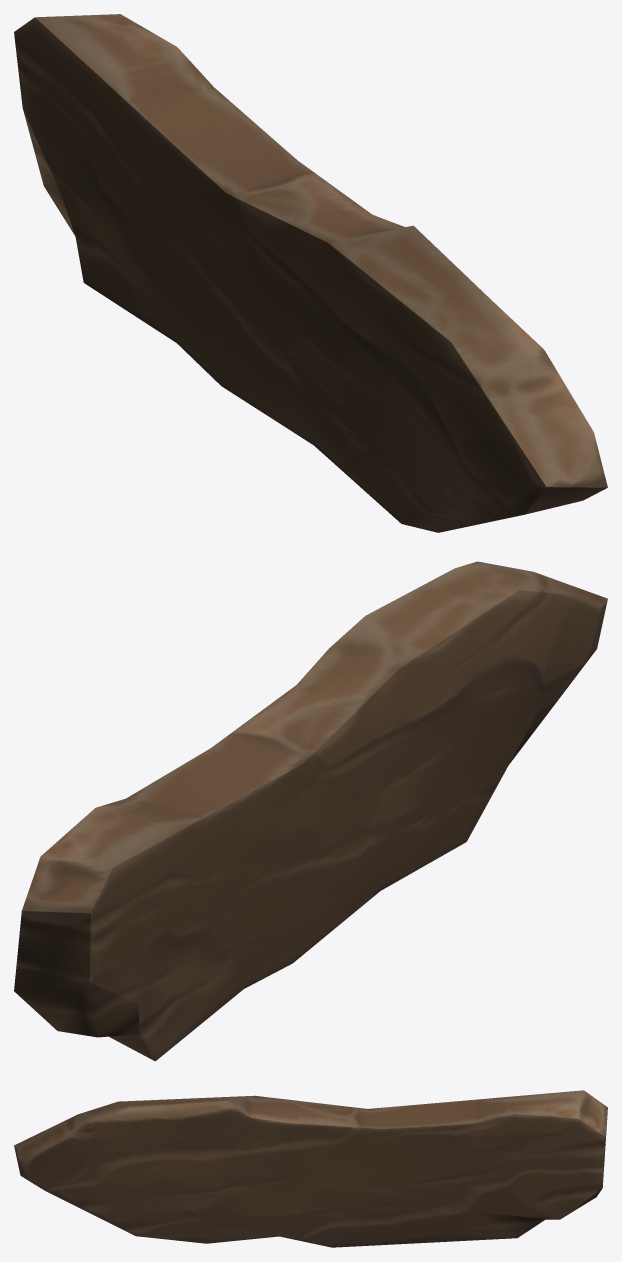
Rendered from SM_FW01_Roadsign_02.fbx.
3 views of the same model, one above another, from view 1: azimuth 30°, elevation 25°; view 2: azimuth 150°, elevation 25°; view 3: azimuth 270°, elevation 25° (orthographic). The views are drawn at different scales.
Parts seen in each view (by area): view 1: SM_FW01_Roadsign_02_LOD0; view 2: SM_FW01_Roadsign_02_LOD0; view 3: SM_FW01_Roadsign_02_LOD0.
Boxes of the visible parts, bbox=[...] form: SM_FW01_Roadsign_02_LOD0: bbox=[14, 14, 607, 532]; SM_FW01_Roadsign_02_LOD0: bbox=[14, 561, 607, 1061]; SM_FW01_Roadsign_02_LOD0: bbox=[14, 1090, 607, 1247].
Size of what is drawn, in the model's own units: 0.0912 by 0.2248 by 0.8526.
